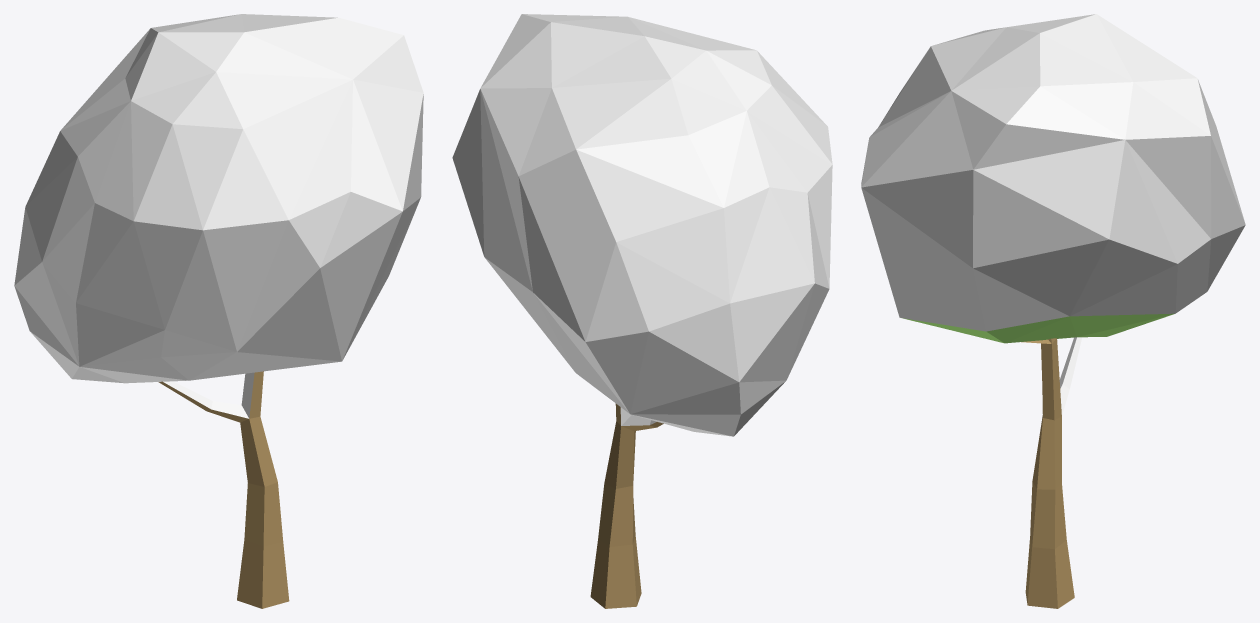
Rendered from Oak_Tree_m_Snow_03.fbx.
3 renders of one model, left to right at view 1: azimuth 30°, elevation 25°; view 2: azimuth 150°, elevation 25°; view 3: azimuth 270°, elevation 25°, orthographic. The views are drawn at different scales.
Visible parts, largest first — view 1: Oak_Tree_m_Snow_03; view 2: Oak_Tree_m_Snow_03; view 3: Oak_Tree_m_Snow_03.
Part boxes in pixels (<box>): Oak_Tree_m_Snow_03: <box>14,14,423,608</box>; Oak_Tree_m_Snow_03: <box>452,14,832,608</box>; Oak_Tree_m_Snow_03: <box>861,14,1245,608</box>.
Bounding box in the file's own units: 490 × 774 × 487.
